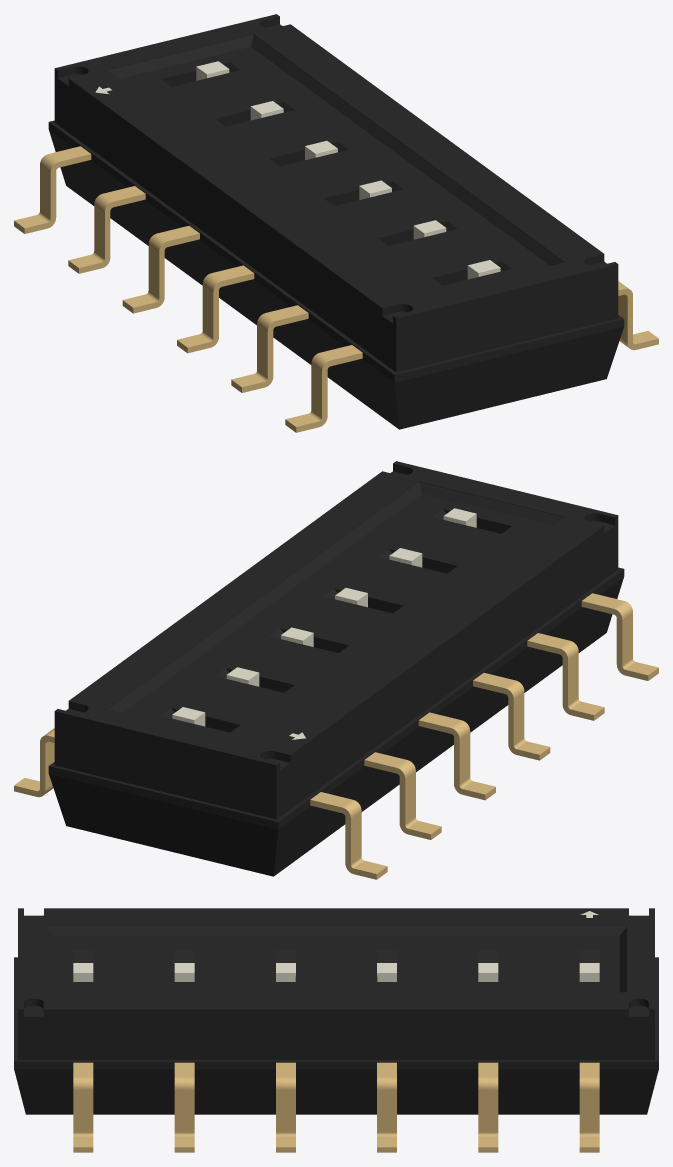
File: kc-sw_dip_spstx06_slide_omron_a6s-610x_w8.9mm_p2.54mm.glb
The picture shows the model from 3 angles, top to bottom: view 1: azimuth 30°, elevation 25°; view 2: azimuth 150°, elevation 25°; view 3: azimuth 270°, elevation 25°; orthographic projection. The views are drawn at different scales.
Visible parts, largest first — view 1: 0_0_0_0, 0.75_0.5_0.25_0.9, 0.75_0.75_0.6666666666666666_0; view 2: 0_0_0_0, 0.75_0.5_0.25_0.9, 0.75_0.75_0.6666666666666666_0; view 3: 0_0_0_0, 0.75_0.5_0.25_0.9, 0.75_0.75_0.6666666666666666_0.
Part boxes in pixels (x1,y1,x2,y2): 0_0_0_0: [48, 14, 624, 429]; 0.75_0.5_0.25_0.9: [14, 146, 658, 432]; 0.75_0.75_0.6666666666666666_0: [95, 61, 500, 279]; 0_0_0_0: [48, 461, 624, 876]; 0.75_0.5_0.25_0.9: [14, 593, 658, 879]; 0.75_0.75_0.6666666666666666_0: [172, 508, 476, 739]; 0_0_0_0: [14, 908, 658, 1114]; 0.75_0.5_0.25_0.9: [73, 1062, 599, 1152]; 0.75_0.75_0.6666666666666666_0: [73, 911, 599, 981].
Bounding box in the file's own units: 0.98 × 0.3075 × 1.62.
